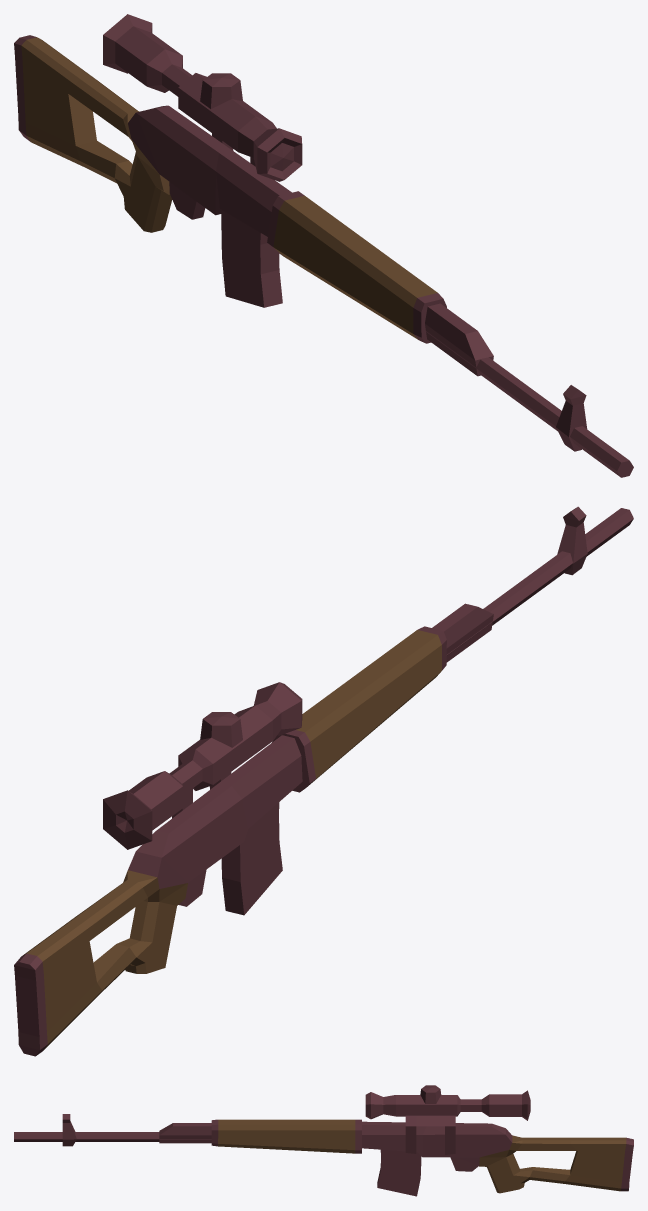
The model's file is SM_Sniper_Old.fbx.
The picture shows the model from 3 angles, top to bottom: view 1: azimuth 30°, elevation 25°; view 2: azimuth 150°, elevation 25°; view 3: azimuth 270°, elevation 25°; orthographic projection. The views are drawn at different scales.
Visible parts, largest first — view 1: SM_Sniper_Old; view 2: SM_Sniper_Old; view 3: SM_Sniper_Old.
Boxes of the visible parts, x1,y1,x2,y2 form: SM_Sniper_Old: [14, 14, 633, 477]; SM_Sniper_Old: [14, 506, 633, 1056]; SM_Sniper_Old: [14, 1085, 633, 1196].
Bounding box in the file's own units: 0.064 × 0.2334 × 1.23.
